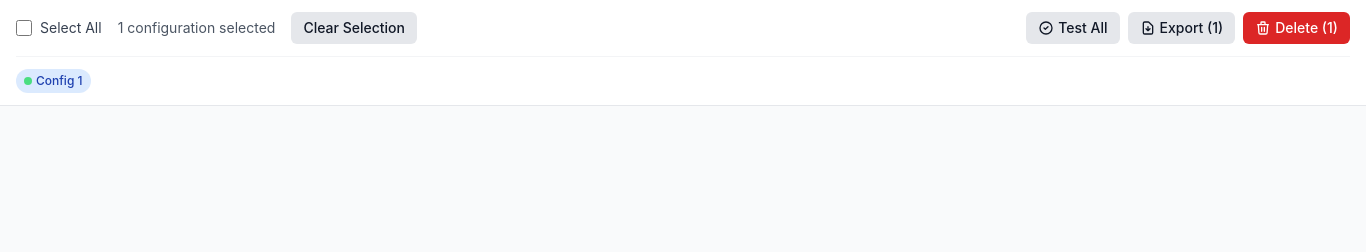
Test case: BatchOperations › shows export options dropdown
Click the button "Export (1)".
click(1181, 28)  # box [1128,12,1235,44]
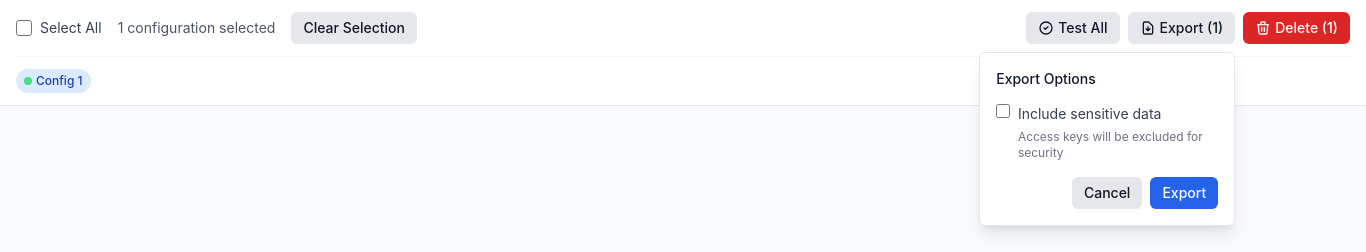
Expected: the heading "Export Options" is shown, [996,70,1096,87]
Expected: the text "Include sensitive data" is shown, [1018,105,1162,122]
